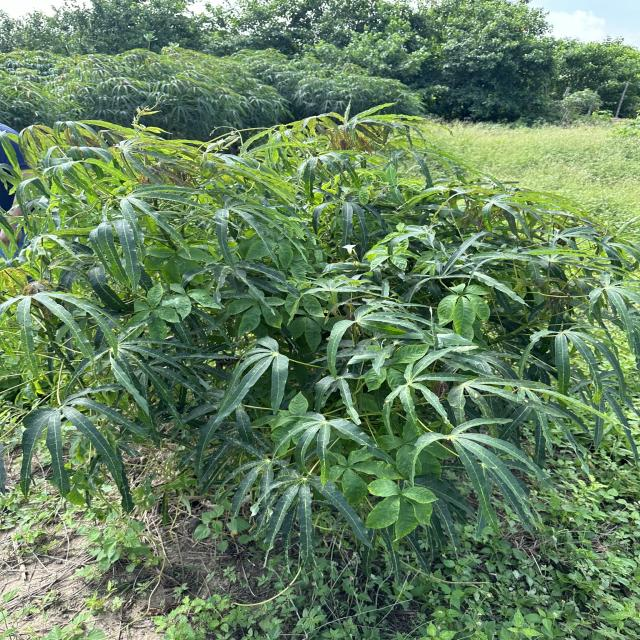Maleza: (419, 547, 640, 640), (476, 122, 640, 189), (261, 384, 336, 452), (314, 439, 384, 500), (370, 472, 433, 527), (282, 283, 334, 340), (227, 282, 277, 340), (158, 269, 214, 319), (125, 284, 168, 345), (442, 276, 493, 318)
